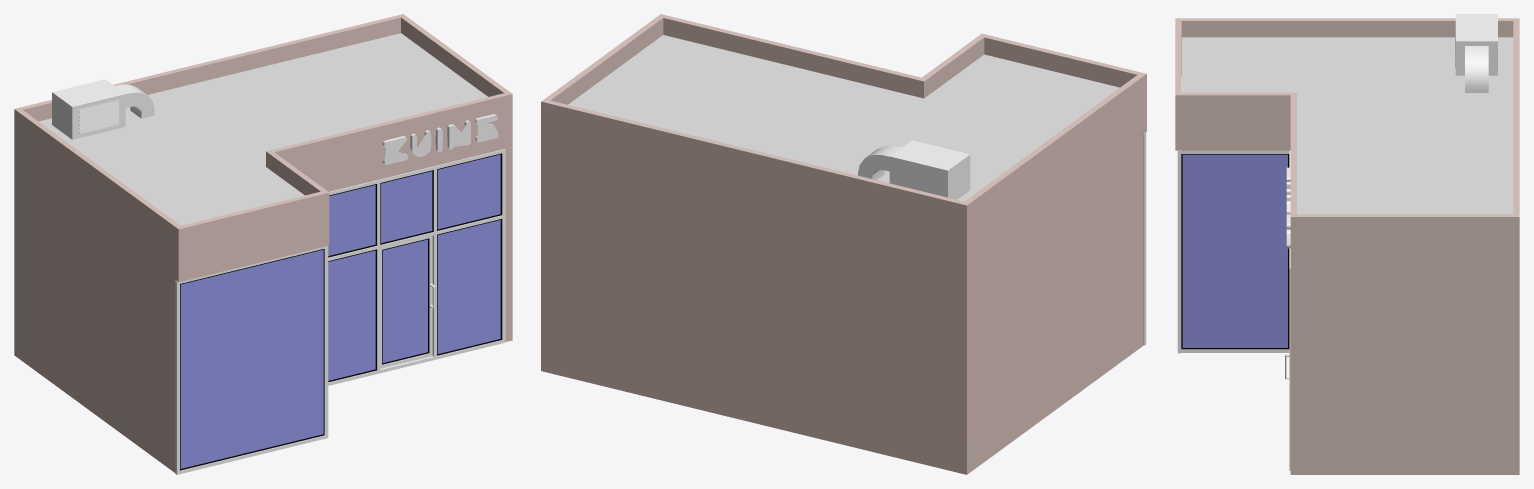
Rendered from zuins.fbx.
3 views of the same model, side by side, from view 1: azimuth 30°, elevation 25°; view 2: azimuth 150°, elevation 25°; view 3: azimuth 270°, elevation 25° (orthographic). The views are drawn at different scales.
Parts seen in each view (by area): view 1: Shelves1; view 2: Shelves1; view 3: Shelves1.
Part boxes in pixels (x1,y1,x2,y2): Shelves1: [14, 14, 512, 474]; Shelves1: [541, 14, 1146, 474]; Shelves1: [1175, 14, 1519, 474].
Bounding box in the file's own units: 654 × 423 × 478.
